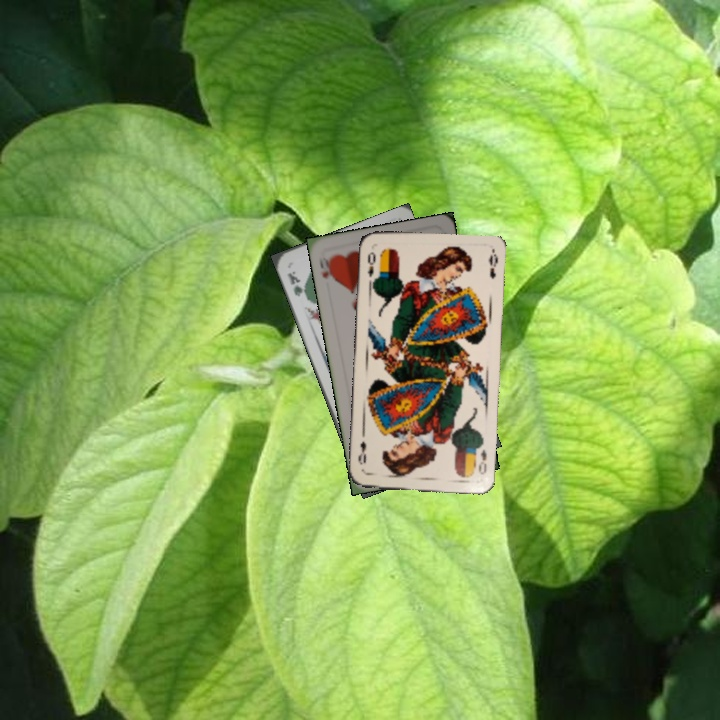EO: (474, 445, 489, 477), (364, 248, 378, 279)
GK: (283, 267, 310, 301)
HO: (315, 253, 337, 285)
